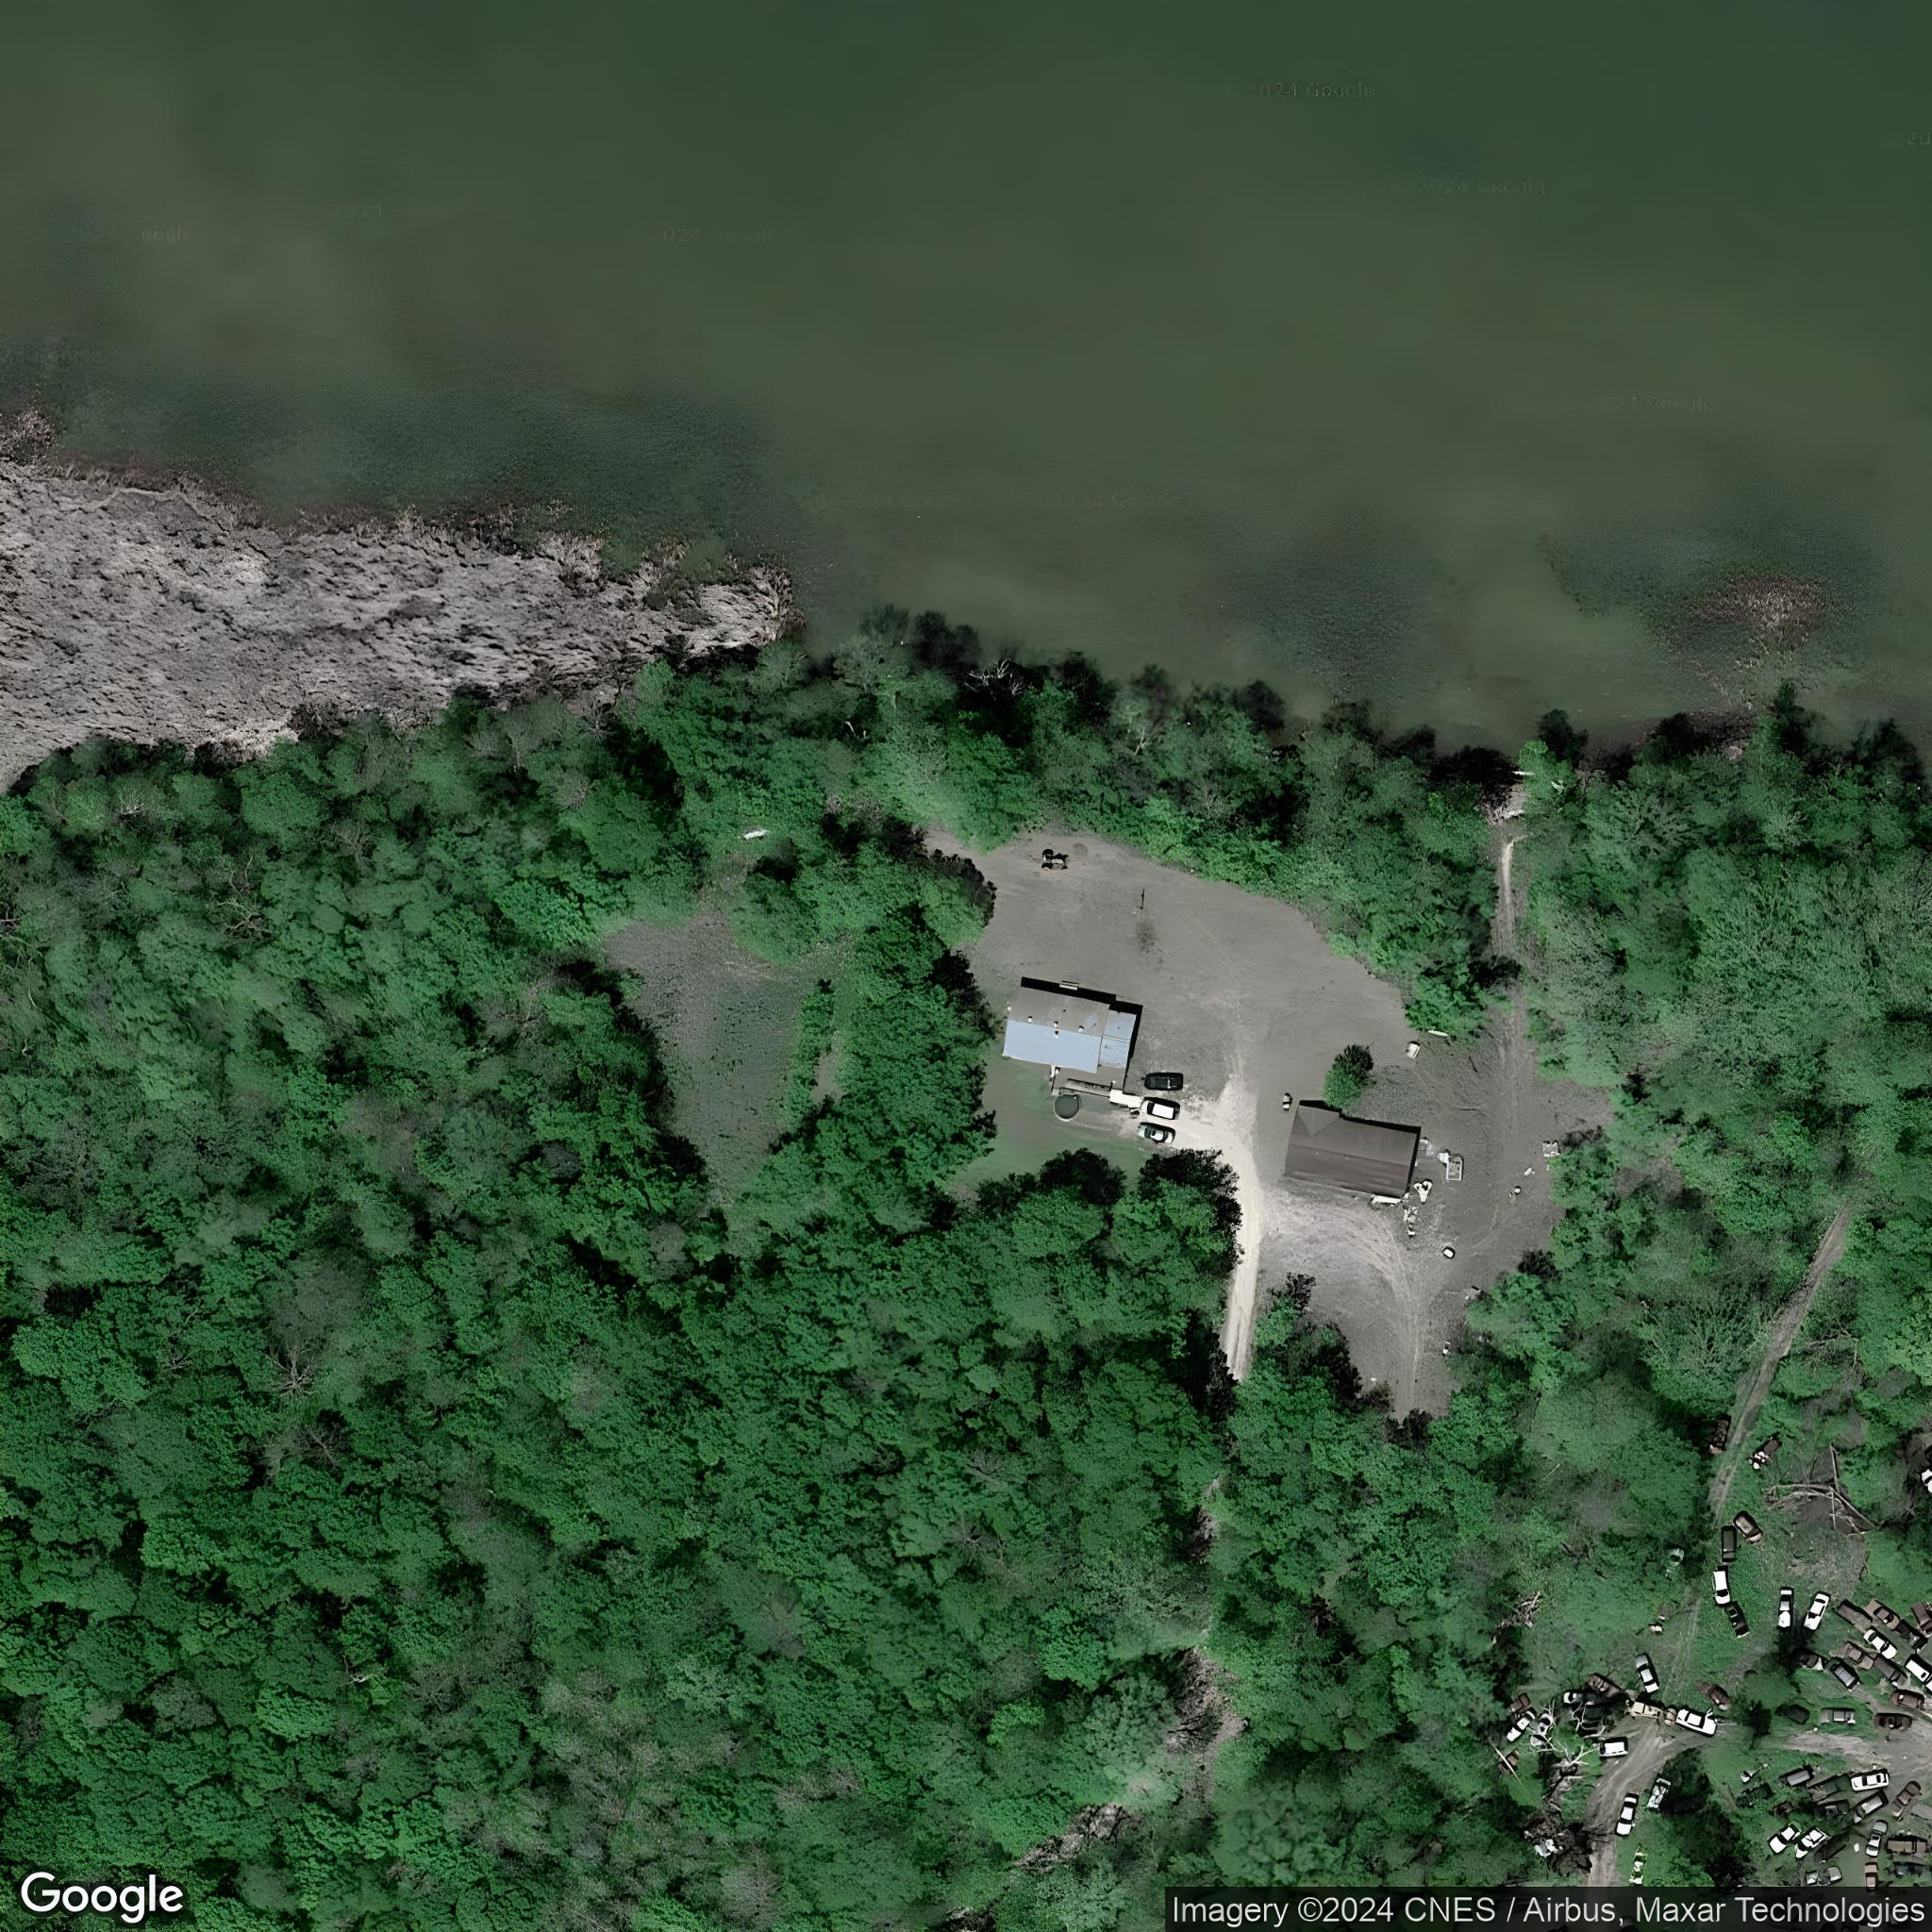House: (1283, 1104, 1419, 1200), (1000, 985, 1138, 1076)
Propane: (1428, 1028, 1449, 1039)
